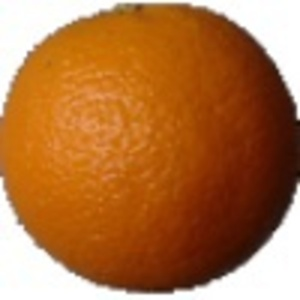laranja: (1, 1, 299, 297)
